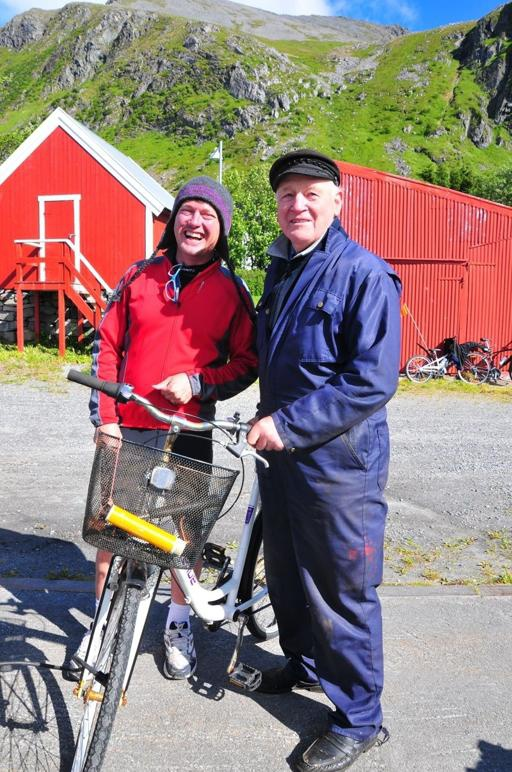non-vehicle: (66, 366, 280, 771), (404, 335, 491, 385), (458, 337, 512, 386)
